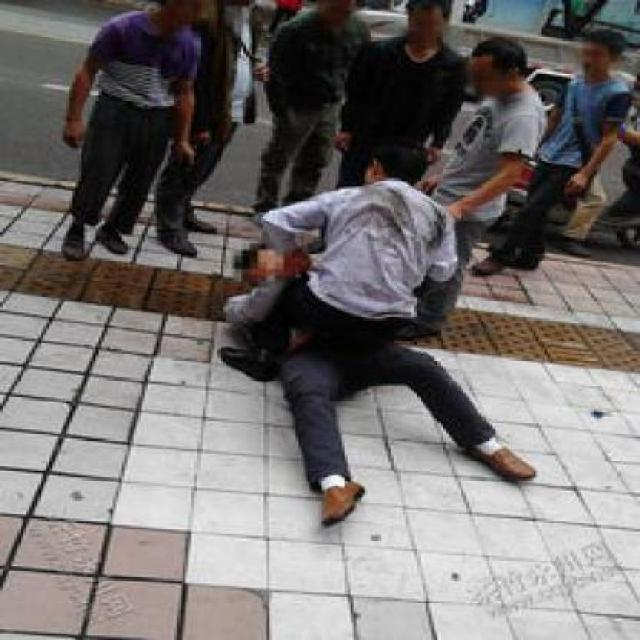fall: (203, 168, 559, 535)
